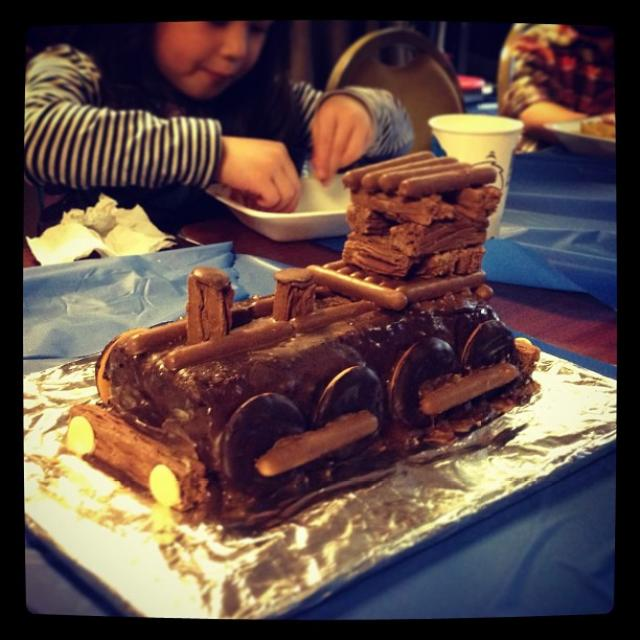chair: (326, 22, 464, 141)
dining table: (21, 114, 616, 619)
